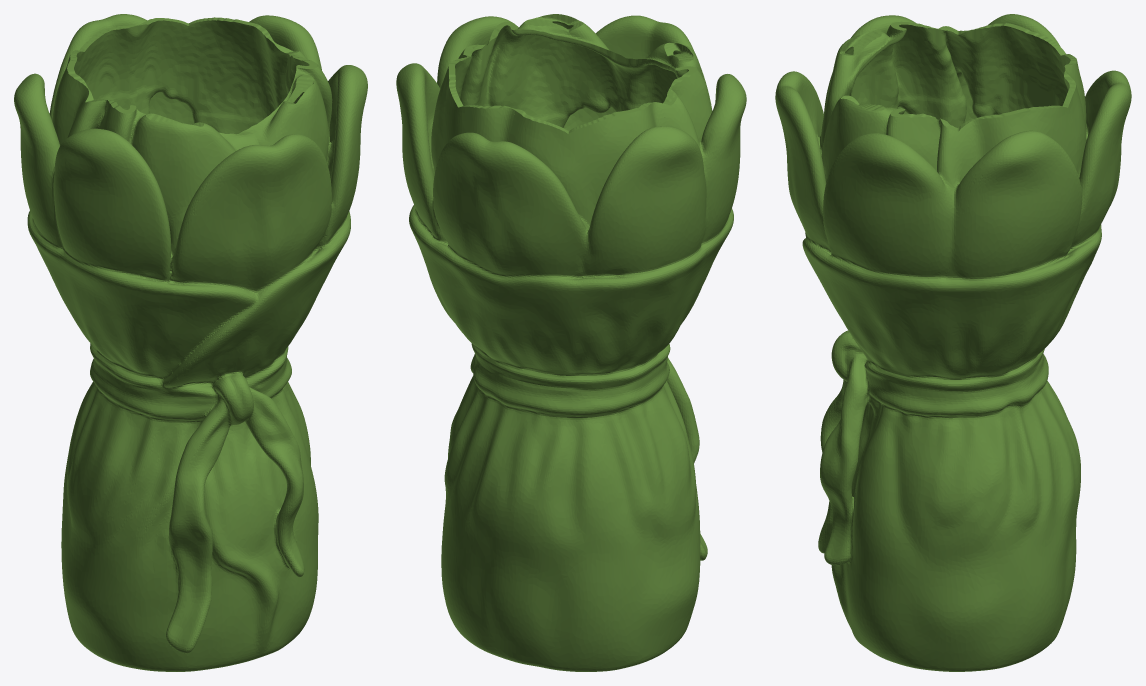
File: H86-web.glb
3 views of the same model, side by side, from view 1: azimuth 30°, elevation 25°; view 2: azimuth 150°, elevation 25°; view 3: azimuth 270°, elevation 25° (orthographic).
Visible parts, largest first — view 1: geometry_0; view 2: geometry_0; view 3: geometry_0.
Part boxes in pixels (x1,y1,x2,y2): geometry_0: [14, 14, 367, 671]; geometry_0: [396, 14, 746, 671]; geometry_0: [775, 14, 1131, 671].
Size of the model in its own units: 153 by 280 by 162.
